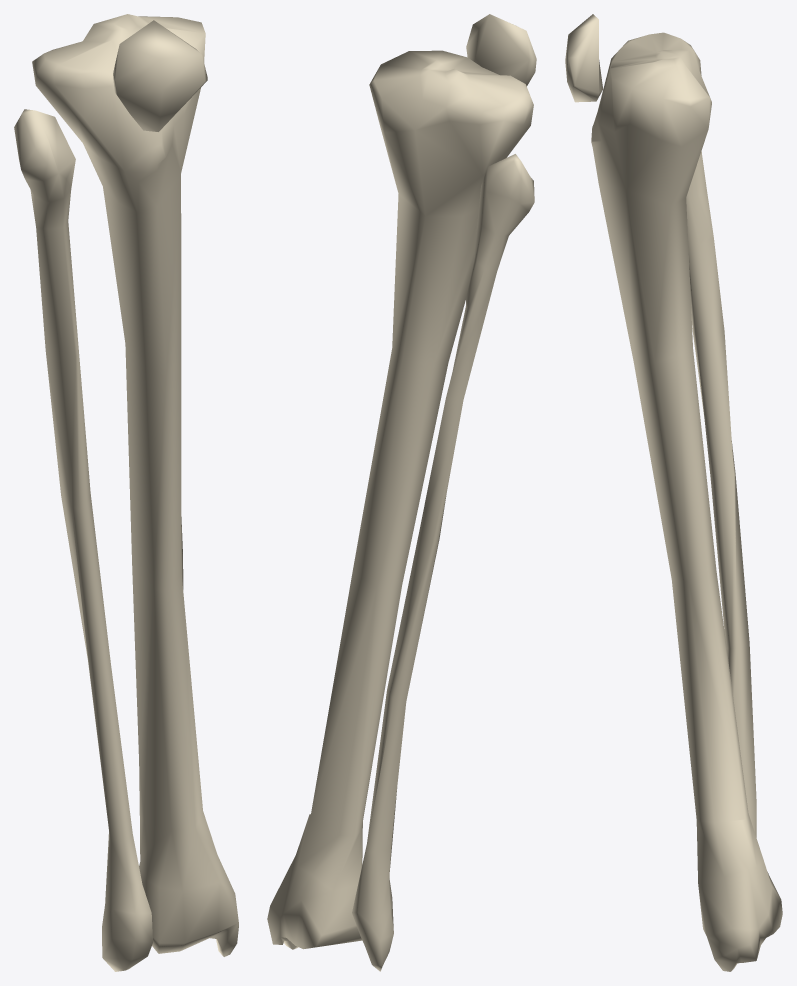
The model's file is bone2.fbx.
3 views of the same model, side by side, from view 1: azimuth 30°, elevation 25°; view 2: azimuth 150°, elevation 25°; view 3: azimuth 270°, elevation 25° (orthographic). The views are drawn at different scales.
Parts seen in each view (by area): view 1: convexhull; view 2: convexhull; view 3: convexhull.
Part boxes in pixels (x1,y1,x2,y2): convexhull: [14, 14, 238, 971]; convexhull: [267, 14, 536, 971]; convexhull: [565, 14, 782, 971].
Bounding box in the file's own units: 5.01 × 19.26 × 4.26.
